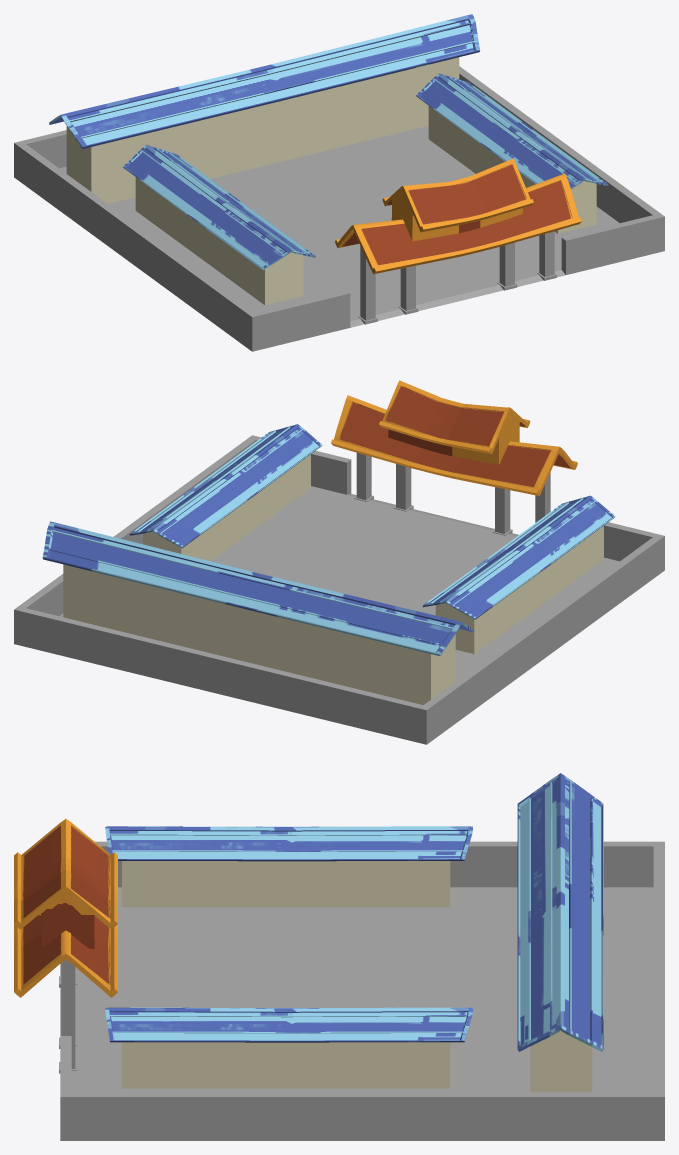
Rendered from school.fbx.
3 views of the same model, one above another, from view 1: azimuth 30°, elevation 25°; view 2: azimuth 150°, elevation 25°; view 3: azimuth 270°, elevation 25° (orthographic). The views are drawn at different scales.
Visible parts, largest first — view 1: pCube90, pCube89, toiture_2_LD1, toiture_2_LD2 (×2), pCube91 (×2), toiture_1_LD1, toiture_1_LD2, pCube85, pCube88, pCube86, pCube87; view 2: pCube90, pCube89, toiture_2_LD1, toiture_2_LD2 (×2), pCube91 (×2), toiture_1_LD1, toiture_1_LD2, pCube88, pCube86, pCube87; view 3: pCube90, pCube91 (×2), toiture_2_LD2 (×2), toiture_2_LD1, toiture_1_LD2, toiture_1_LD1, pCube89, pCube88.
Part boxes in pixels (x1,y1,x2,y2): pCube90: (14, 66, 664, 351); pCube89: (66, 57, 459, 203); toiture_2_LD1: (49, 14, 480, 148); toiture_2_LD2 (×2): (123, 73, 608, 270); pCube91 (×2): (135, 106, 596, 305); toiture_1_LD1: (335, 173, 581, 274); toiture_1_LD2: (382, 158, 533, 241); pCube85: (358, 246, 377, 324); pCube88: (537, 231, 556, 280); pCube86: (398, 265, 418, 314); pCube87: (497, 242, 517, 290); pCube90: (14, 435, 664, 744); pCube89: (63, 564, 455, 704); toiture_2_LD1: (42, 521, 473, 656); toiture_2_LD2 (×2): (129, 424, 615, 619); pCube91 (×2): (143, 454, 603, 654); toiture_1_LD1: (331, 395, 577, 495); toiture_1_LD2: (379, 380, 530, 464); pCube88: (354, 453, 373, 501); pCube86: (492, 487, 512, 535); pCube87: (393, 464, 413, 511); pCube90: (60, 841, 664, 1140); pCube91 (×2): (122, 861, 450, 1088); toiture_2_LD2 (×2): (105, 826, 472, 1042); toiture_2_LD1: (517, 773, 603, 1051); toiture_1_LD2: (14, 819, 117, 948); toiture_1_LD1: (14, 915, 117, 997); pCube89: (530, 1030, 592, 1092); pCube88: (59, 960, 77, 1073).
Size of the model in its own units: 20235 by 5909 by 21538.
